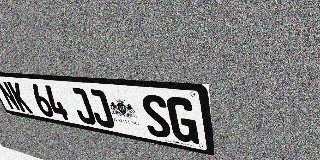4: (41, 85, 70, 120)
6: (28, 83, 56, 118)
G: (165, 96, 199, 144)
J: (85, 89, 116, 129), (67, 87, 97, 126)
K: (6, 82, 33, 114)
N: (0, 81, 22, 111)
S: (139, 94, 172, 140)
